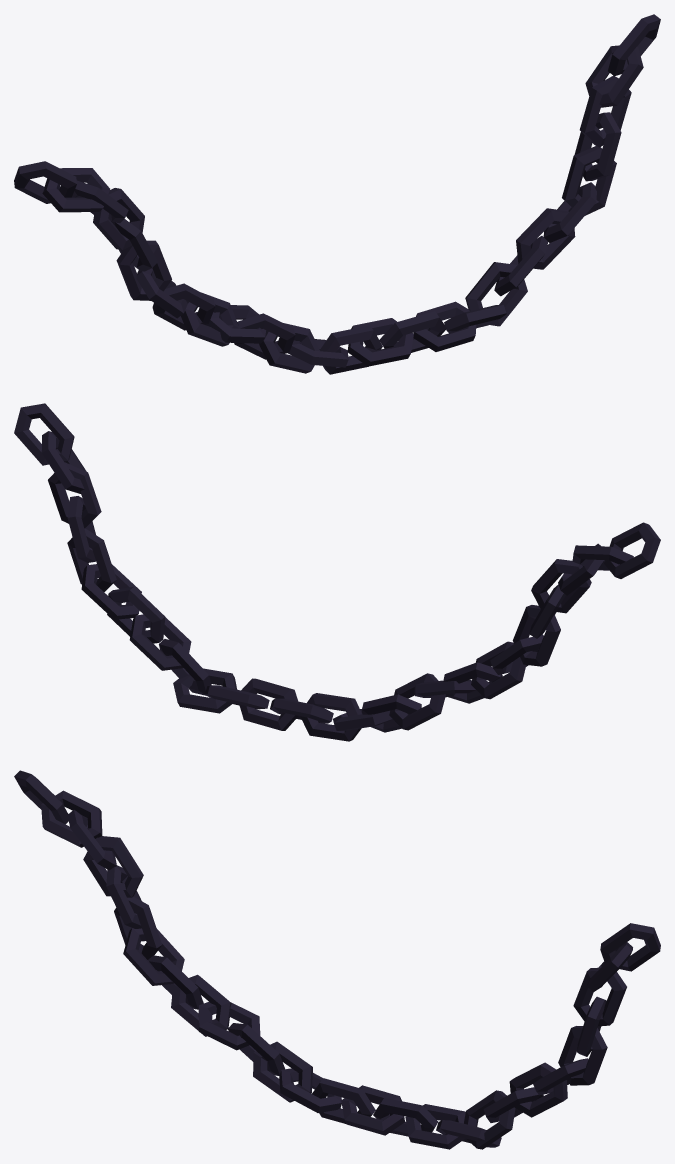
The model's file is MDungeon_Chain_Hanging_02.FBX.
3 renders of one model, top to bottom at view 1: azimuth 30°, elevation 25°; view 2: azimuth 150°, elevation 25°; view 3: azimuth 330°, elevation 25°, orthographic. The views are drawn at different scales.
Visible parts, largest first — view 1: MDungeon_Chain_Hanging_02_LOD0; view 2: MDungeon_Chain_Hanging_02_LOD0; view 3: MDungeon_Chain_Hanging_02_LOD0.
Part boxes in pixels (x1,y1,x2,y2): MDungeon_Chain_Hanging_02_LOD0: (14,14,660,374); MDungeon_Chain_Hanging_02_LOD0: (14,403,660,741); MDungeon_Chain_Hanging_02_LOD0: (14,770,660,1149).
Size of what is drawn, in the model's own units: 2.95 by 1.27 by 0.2655.
